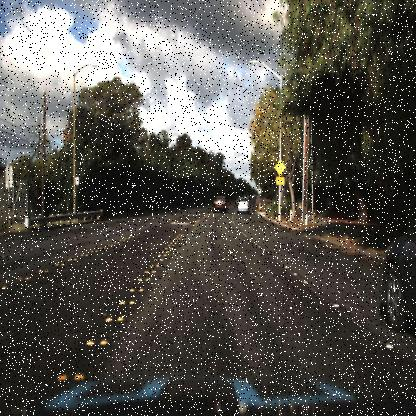car: (382, 223, 416, 338), (210, 192, 228, 218), (233, 194, 252, 216)
